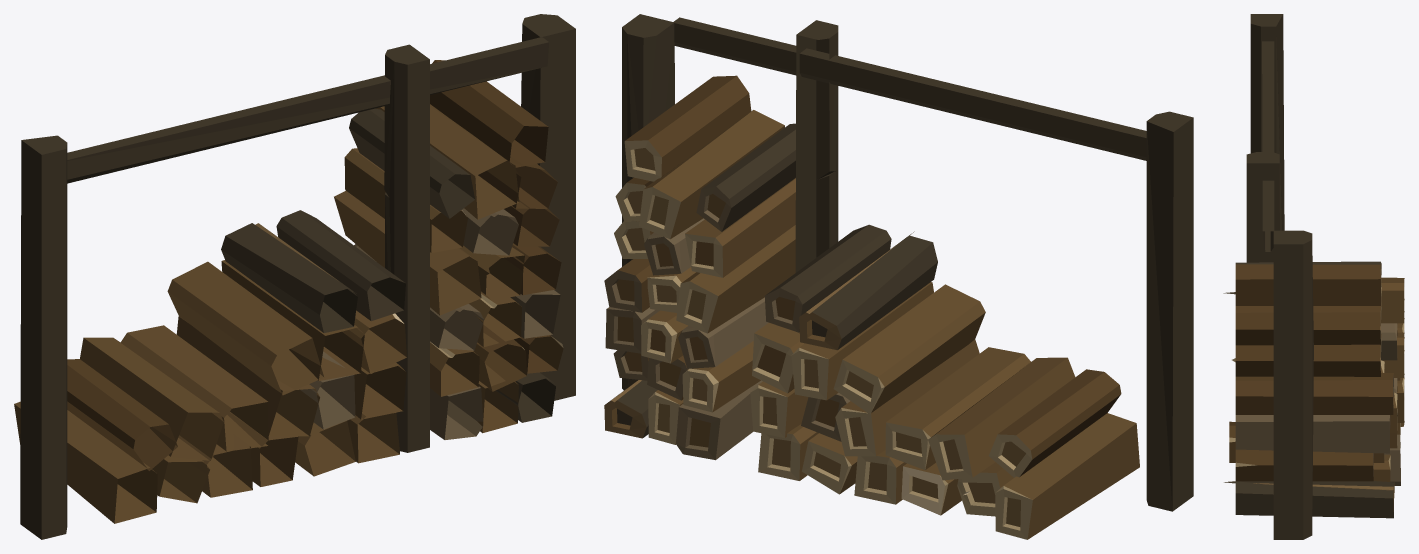
File: EA03_Items_House_Firewood_01a.fbx
3 renders of one model, left to right at view 1: azimuth 30°, elevation 25°; view 2: azimuth 150°, elevation 25°; view 3: azimuth 270°, elevation 25°, orthographic. The views are drawn at different scales.
Parts seen in each view (by area): view 1: EA03_Items_House_Firewood_01a_LOD0; view 2: EA03_Items_House_Firewood_01a_LOD0; view 3: EA03_Items_House_Firewood_01a_LOD0.
Boxes of the visible parts, x1=… form: EA03_Items_House_Firewood_01a_LOD0: x1=14, y1=14, x2=575, y2=539; EA03_Items_House_Firewood_01a_LOD0: x1=604, y1=14, x2=1193, y2=539; EA03_Items_House_Firewood_01a_LOD0: x1=1223, y1=14, x2=1404, y2=539.
Size of what is drawn, in the model's own units: 3.5 by 2.36 by 1.25.
